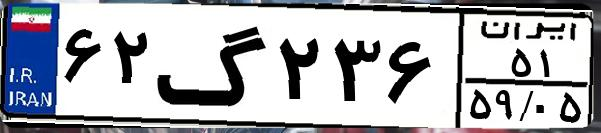0: (535, 70, 560, 125)
1: (537, 27, 568, 80)
2: (270, 28, 330, 110), (110, 28, 156, 98)
3: (330, 28, 385, 110)
5: (560, 70, 590, 125), (508, 27, 537, 80), (470, 70, 495, 125)
6: (385, 28, 445, 110), (57, 26, 110, 100)
9: (495, 70, 520, 125)
گ: (156, 12, 270, 120)
